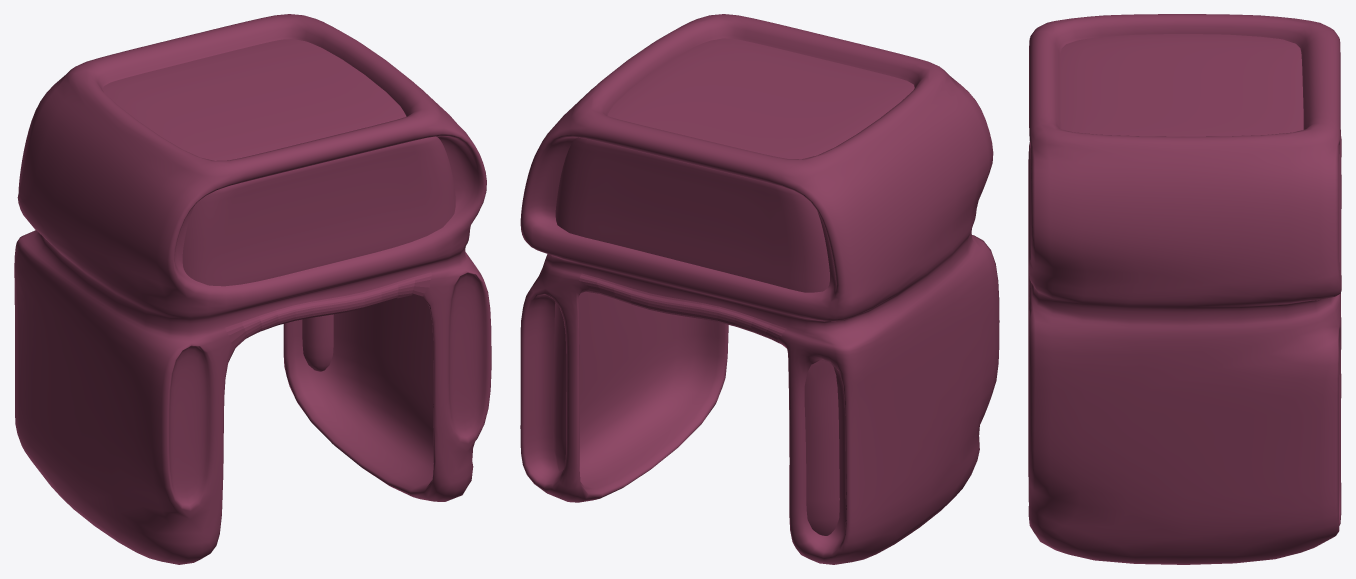
File: vanity chair.fbx
3 views of the same model, side by side, from view 1: azimuth 30°, elevation 25°; view 2: azimuth 150°, elevation 25°; view 3: azimuth 270°, elevation 25° (orthographic). The views are drawn at different scales.
Visible parts, largest first — view 1: Cube.011; view 2: Cube.011; view 3: Cube.011.
Part boxes in pixels (x1=…): Cube.011: x1=14, y1=14, x2=491, y2=564; Cube.011: x1=520, y1=14, x2=999, y2=564; Cube.011: x1=1028, y1=14, x2=1341, y2=564.
Size of the model in its own units: 34.87 by 39.62 by 26.94.
